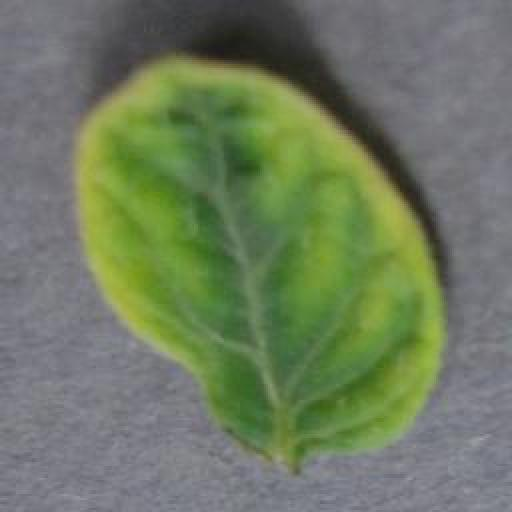disease_tomato: (71, 56, 449, 460)
